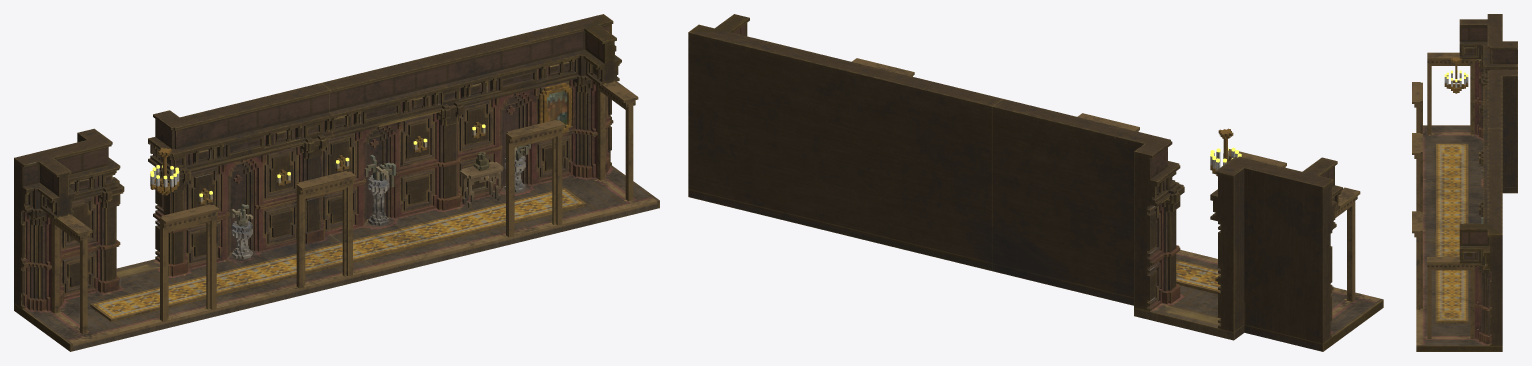
File: greathall.glb
The picture shows the model from 3 angles, left to right: view 1: azimuth 30°, elevation 25°; view 2: azimuth 150°, elevation 25°; view 3: azimuth 270°, elevation 25°; orthographic projection. The views are drawn at different scales.
Visible parts, largest first — view 1: corridor_horror_bake, corridor_horror_bake.001; view 2: corridor_horror_bake; view 3: corridor_horror_bake.
Boxes of the visible parts, left/top/right/bottom form: corridor_horror_bake: left=14, top=14, right=659, bottom=351; corridor_horror_bake.001: left=231, top=144, right=530, bottom=259; corridor_horror_bake: left=688, top=14, right=1383, bottom=351; corridor_horror_bake: left=1412, top=14, right=1517, bottom=351.
Bounding box in the file's own units: 24.2 × 6 × 4.9.
Materials: 3 (2 with a texture image).
